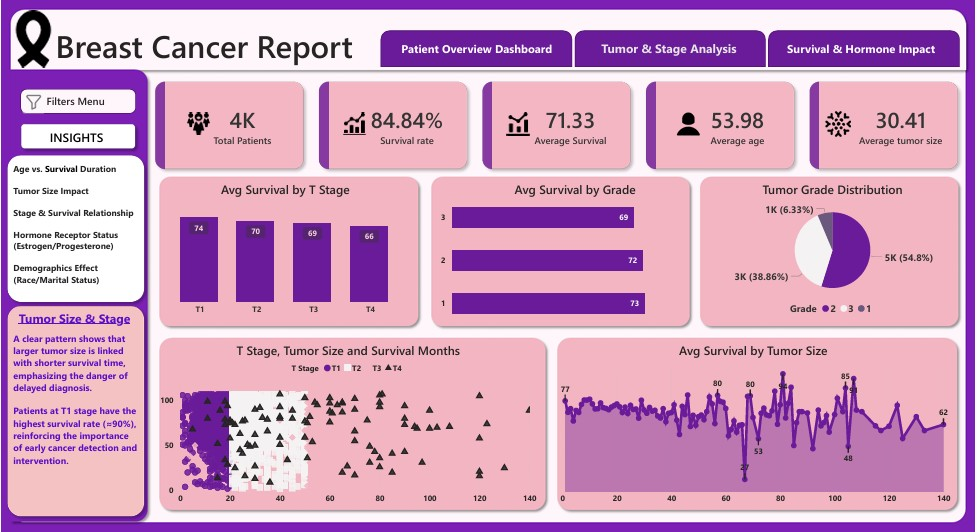

Layout of this report page (visuals, bound fields, positions):
{"tool":"powerbi","page":{"name":"Tumor & Stage Analysis","canvas":[1500,820],"ordinal":1},"visuals":[{"type":"scatterChart","fields":{"X":["Breast_Cancer.Tumor Size"],"Series":["Breast_Cancer.T Stage"],"Y":["Breast_Cancer.Survival Months"]},"box":[239.2,525.5,590.2,258.8],"z":0},{"type":"lineChart","fields":{"Category":["Breast_Cancer.Tumor Size"],"Y":["Breast_Cancer.Avg Survival"]},"box":[855.7,526.2,611.5,257.4],"z":1000},{"type":"columnChart","fields":{"Category":["Breast_Cancer.T Stage"],"Y":["Breast_Cancer.Avg Survival"]},"box":[250.8,278.7,388.5,214.8],"z":2000},{"type":"pieChart","title":"Tumor Grade Distribution","fields":{"Y":["Sum(Breast_Cancer.Grade)"],"Category":["Breast_Cancer.Grade"]},"box":[1080.4,278.4,400,215.7],"z":3000},{"type":"barChart","fields":{"Y":["Breast_Cancer.Avg Survival"],"Category":["Breast_Cancer.Grade"]},"box":[674,277,388.5,219.7],"z":4000},{"type":"cardVisual","fields":{"Data":["Breast_Cancer.Total Patients","Breast_Cancer.Survival rate %","Breast_Cancer.Avg Survival","Breast_Cancer.Avg age","Breast_Cancer.Average tumor size"]},"box":[217.6,103.9,1276.5,174],"z":5000},{"type":"shape","box":[29.3,136.2,178,38],"z":6000},{"type":"textbox","box":[25.9,138,176,36],"z":7000},{"type":"image","box":[0,9.8,98,98],"z":8000},{"type":"shape","box":[584.5,45.6,294.7,56.1],"z":9000},{"type":"shape","box":[882.7,45.6,294.7,56.1],"z":10000},{"type":"shape","box":[1181,45.6,294.7,56.1],"z":11000},{"type":"pageNavigator","box":[589,47,879.5,50],"z":12000},{"type":"textbox","box":[78.3,32,493.3,76.7],"z":13000},{"type":"image","box":[31.5,134.9,35.6,42.5],"z":14000},{"type":"actionButton","box":[31.5,139.7,35.6,34.2],"z":15000},{"type":"shape","box":[0,229.3,229.3,243.4],"z":16000},{"type":"shape","box":[0,461.3,229,341.9],"z":17000},{"type":"shape","box":[20.6,181.4,194.8,55.7],"z":18000},{"type":"textbox","box":[13.1,245.5,204,203],"z":19000},{"type":"textbox","box":[25,192,181.4,38.1],"z":20000},{"type":"textbox","box":[14,471,197,45.5],"z":22000},{"type":"textbox","box":[13.1,505.1,204,285.9],"z":23000}]}

Visuals, with their boxes in screenshot pixels (x1, y1, x2, y2), scaled from the page's 1500x820 canvas onto the 978x532 screenshot:
scatterChart - Breast_Cancer.Tumor Size x Breast_Cancer.T Stage: 156 341 541 509
lineChart - Breast_Cancer.Tumor Size x Breast_Cancer.Avg Survival: 558 341 957 508
columnChart - Breast_Cancer.T Stage x Breast_Cancer.Avg Survival: 164 181 417 320
"Tumor Grade Distribution" pieChart: 704 181 965 321
barChart - Breast_Cancer.Avg Survival x Breast_Cancer.Grade: 439 180 693 322
cardVisual - Breast_Cancer.Total Patients x Breast_Cancer.Survival rate %: 142 67 974 180
shape: 19 88 135 113
textbox: 17 90 132 113
image: 0 6 64 70
shape: 381 30 573 66
shape: 576 30 768 66
shape: 770 30 962 66
pageNavigator: 384 30 957 63
textbox: 51 21 373 71
image: 21 88 44 115
actionButton: 21 91 44 113
shape: 0 149 150 307
shape: 0 299 149 521
shape: 13 118 140 154
textbox: 9 159 142 291
textbox: 16 125 135 149
textbox: 9 306 138 335
textbox: 9 328 142 513
